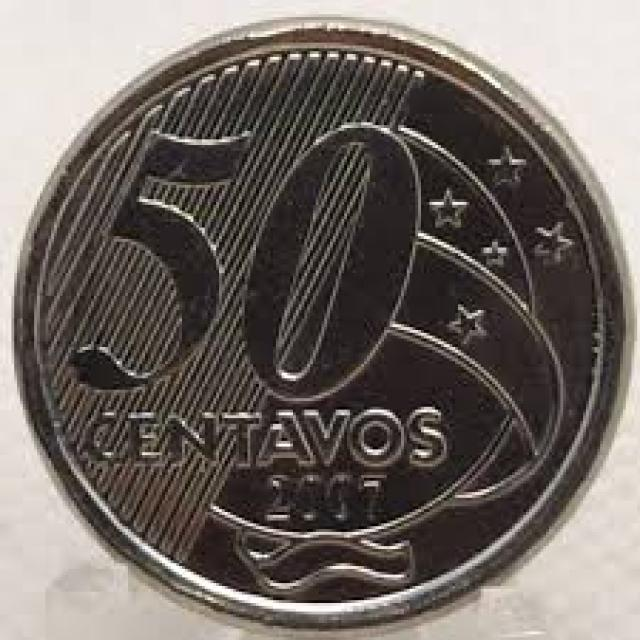50 cent: (13, 12, 632, 622)
